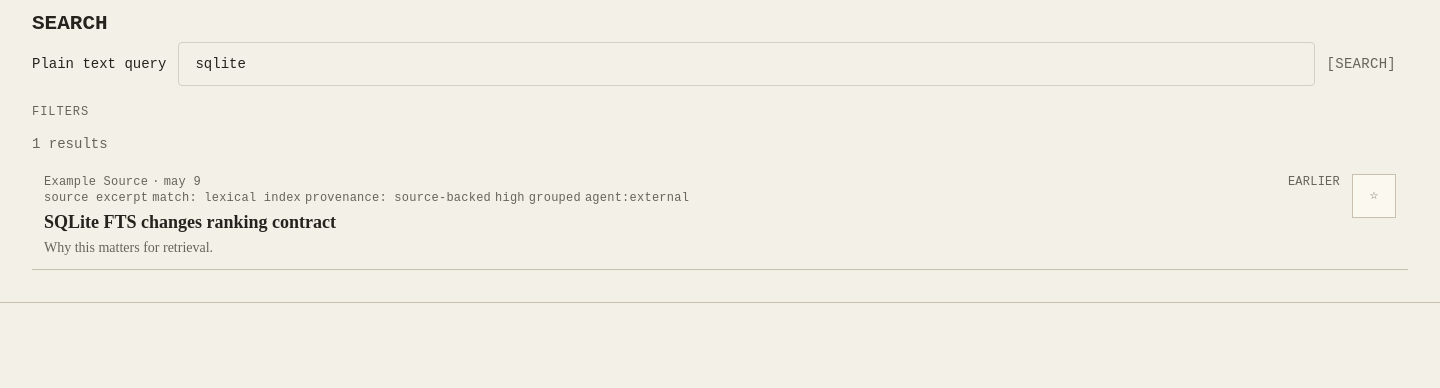
Scenario: SearchRetrieval filter disclosure › keeps secondary filters collapsed initially while preserving explicit open behavior
The width and height of the screenshot is (1440, 388).
Click the heading "filters": (61, 112) left=32, top=105, right=89, bottom=119
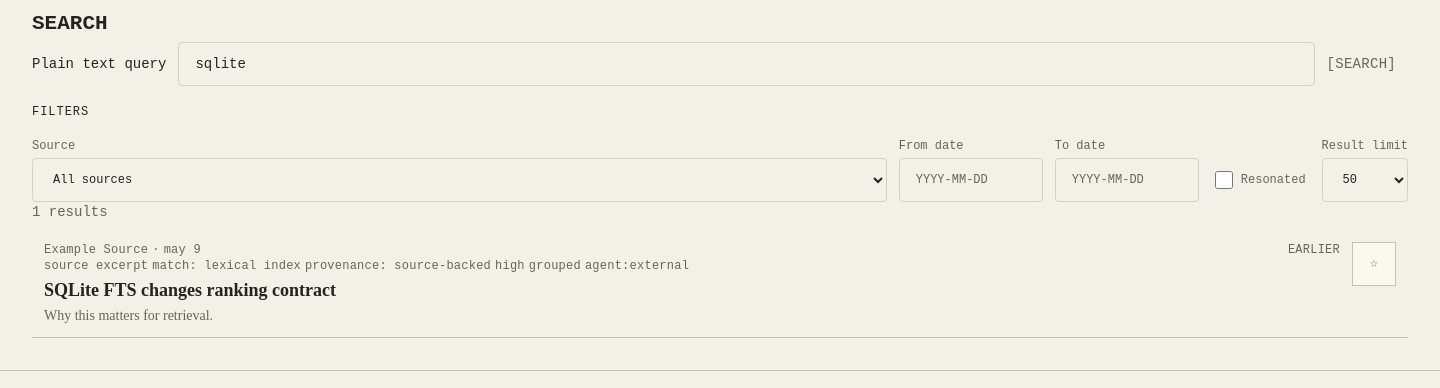
Expected: the dropdown named "Source filter" is shown, left=32, top=158, right=887, bottom=202
Expected: the field labelled "From date" is shown, left=899, top=158, right=1043, bottom=202
Expected: the checkbox named "Resonated only" is shown, left=1215, top=171, right=1233, bottom=189
